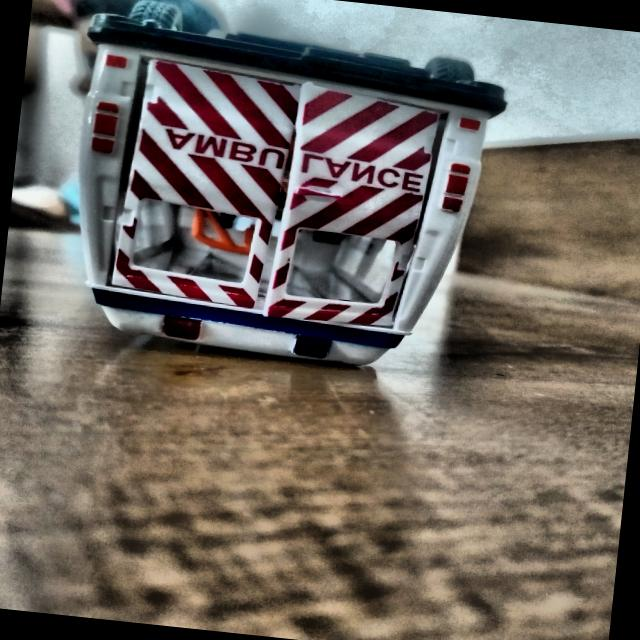Ambulance: (63, 0, 506, 379)
